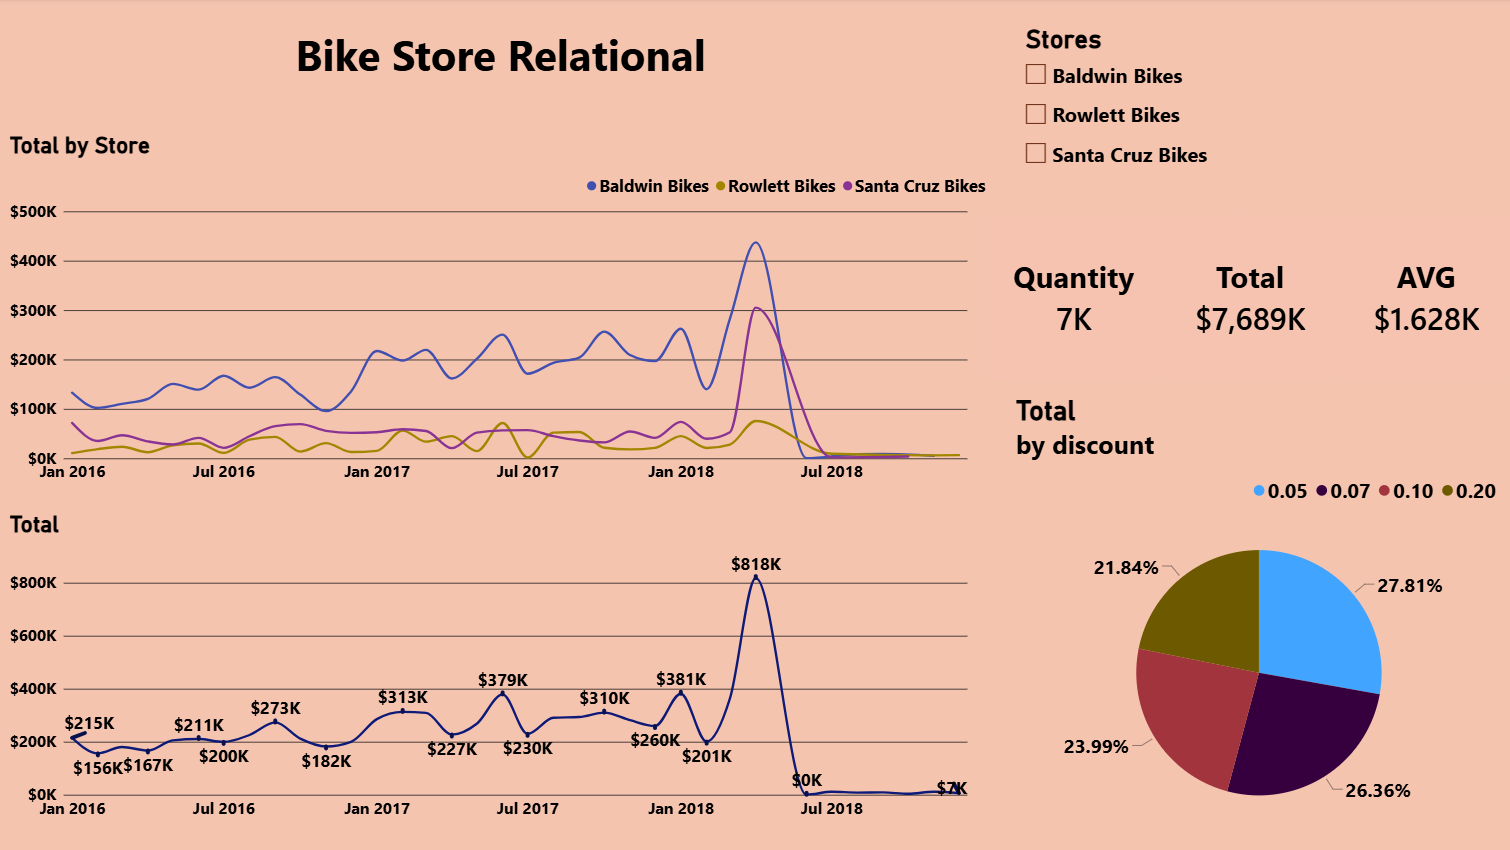

What the dashboard file says about the page in this screenshot:
{"tool":"powerbi","page":{"name":"Page 1","canvas":[1920,1080],"ordinal":0},"visuals":[{"type":"cardVisual","fields":{"Data":["vw_vendas_detalhadas_202610100345.Average Value"]},"box":[1697.1,273.8,223.3,211],"z":0},{"type":"cardVisual","fields":{"Data":["vw_vendas_detalhadas_202610100345.Total"]},"box":[1473.8,273.8,223.3,211],"z":1000},{"type":"cardVisual","fields":{"Data":["Sum(vw_vendas_detalhadas_202610100345.quantity)"]},"box":[1250.6,273.8,223.3,211],"z":2000},{"type":"slicer","fields":{"Values":["vw_vendas_detalhadas_202610100345.store_name"]},"box":[1294.2,33.1,275.6,242.4],"z":3000},{"type":"textbox","box":[366.3,34.9,540.7,176.2],"z":4000},{"type":"lineChart","title":"Total by Store","fields":{"Category":["vw_vendas_detalhadas_202610100345.order_date.Variation.Date Hierarchy.Year","vw_vendas_detalhadas_202610100345.order_date.Variation.Date Hierarchy.Month"],"Series":["vw_vendas_detalhadas_202610100345.store_name"],"Y":["vw_vendas_detalhadas_202610100345.Total"]},"box":[0,155,1273.3,479.7],"z":5000},{"type":"lineChart","title":"Total","fields":{"Category":["vw_vendas_detalhadas_202610100345.order_date.Variation.Date Hierarchy.Year","vw_vendas_detalhadas_202610100345.order_date.Variation.Date Hierarchy.Month"],"Y":["vw_vendas_detalhadas_202610100345.Total"]},"box":[0,634.3,1273.3,425.6],"z":6000},{"type":"pieChart","fields":{"Series":["vw_vendas_detalhadas_202610100345.discount"],"Y":["vw_vendas_detalhadas_202610100345.Total"]},"box":[1273.3,486.6,647.1,593],"z":7000}]}

Visuals, with their boxes in screenshot pixels (x1, y1, x2, y2), scaled from the page's 1920x1080 canvas onto the 1510x850 screenshot:
cardVisual - vw_vendas_detalhadas_202610100345.Average Value: crop(1335, 215, 1509, 382)
cardVisual - vw_vendas_detalhadas_202610100345.Total: crop(1159, 215, 1335, 382)
cardVisual - Sum(vw_vendas_detalhadas_202610100345.quantity): crop(984, 215, 1159, 382)
slicer - vw_vendas_detalhadas_202610100345.store_name: crop(1018, 26, 1235, 217)
textbox: crop(288, 27, 713, 166)
"Total by Store" lineChart: crop(0, 122, 1001, 500)
"Total" lineChart: crop(0, 499, 1001, 834)
pieChart - vw_vendas_detalhadas_202610100345.discount x vw_vendas_detalhadas_202610100345.Total: crop(1001, 383, 1509, 849)
